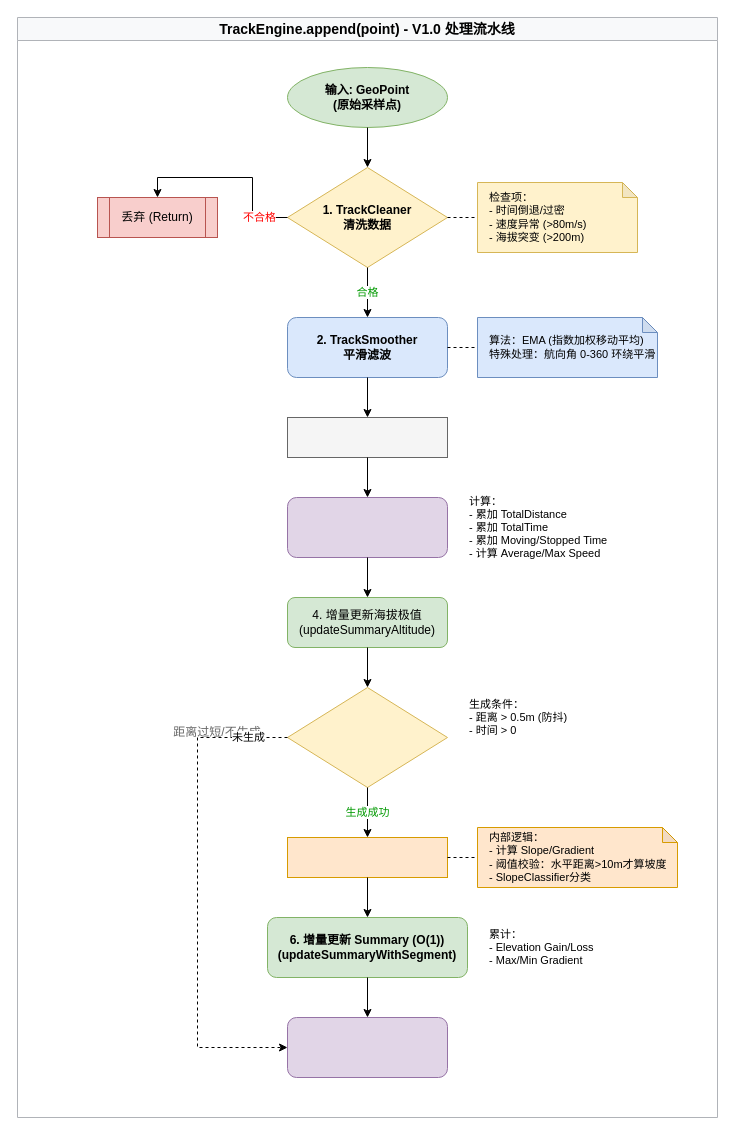
This 735x1135 diagram has some shape labels left out. Each missing label, with the centre of its shape:
"3. TrackAnalyzer 基础统计 (点驱动)" belongs at [367,527].
"5. SegmentAnalyzer 尝试生成段落" belongs at [367,737].
"7. StopDetector 停车检测" belongs at [367,1047].
"更新状态: pointsCount + 1 lastAcceptedPoint = current" belongs at [367,437].
"生成新 Segment (New)" belongs at [367,857].
